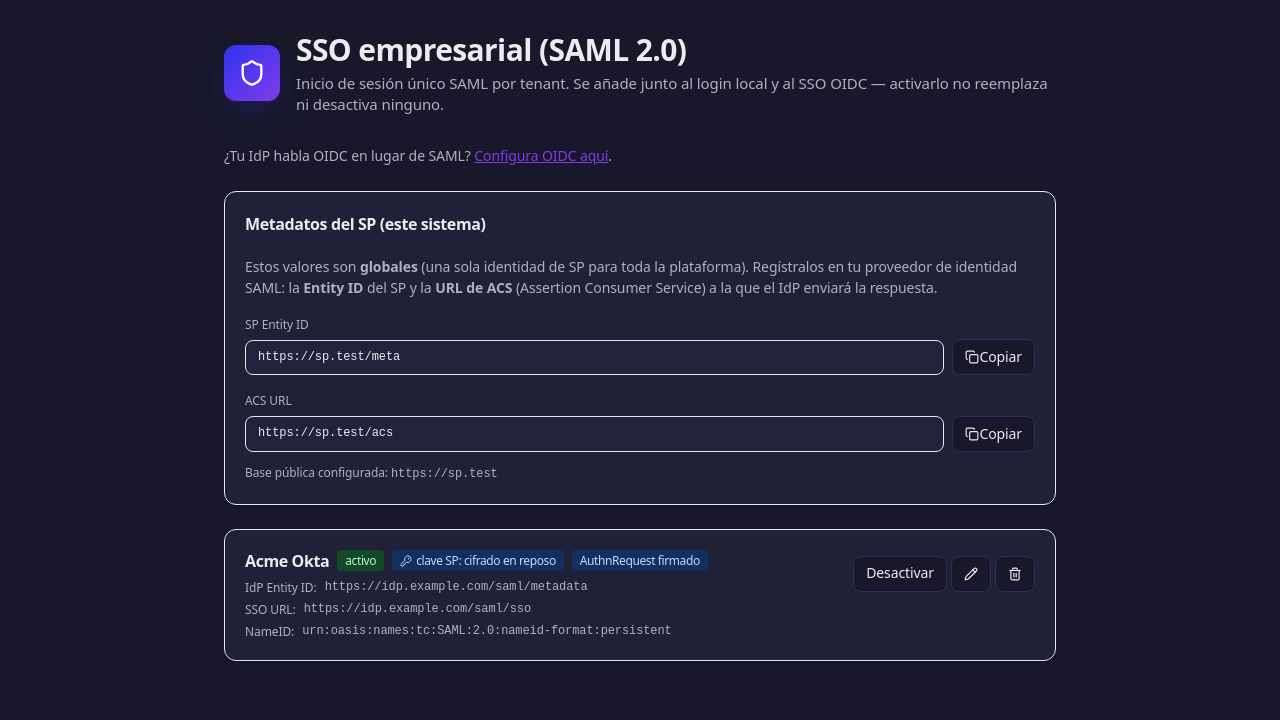
diálogo de edición SAML › precarga lo guardado y NO la clave privada
Click the button with test id "saml-edit-button": (971, 574) [951,556,991,592]
(page scrolled)
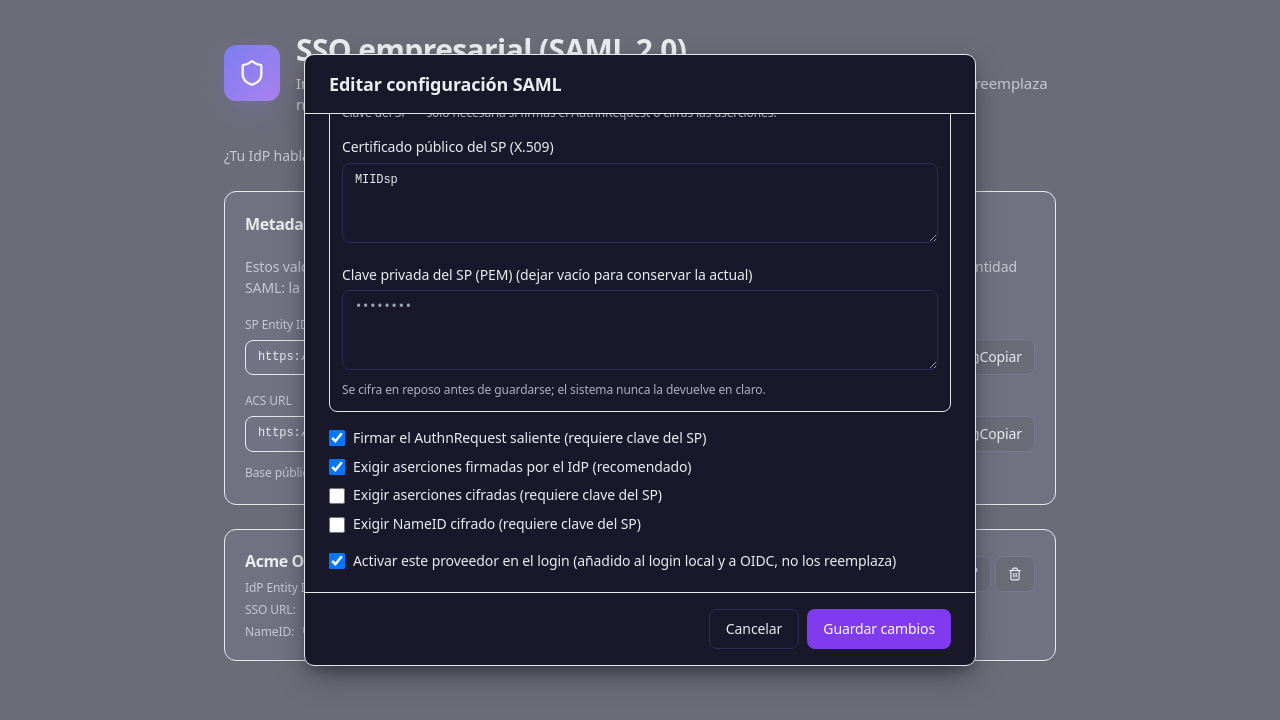
Now the text box with test id "saml-form-sp-key" is empty, box [342,290,938,370]
Now the checkbox with test id "saml-form-authn-signed" is checked, box [329,430,345,446]
